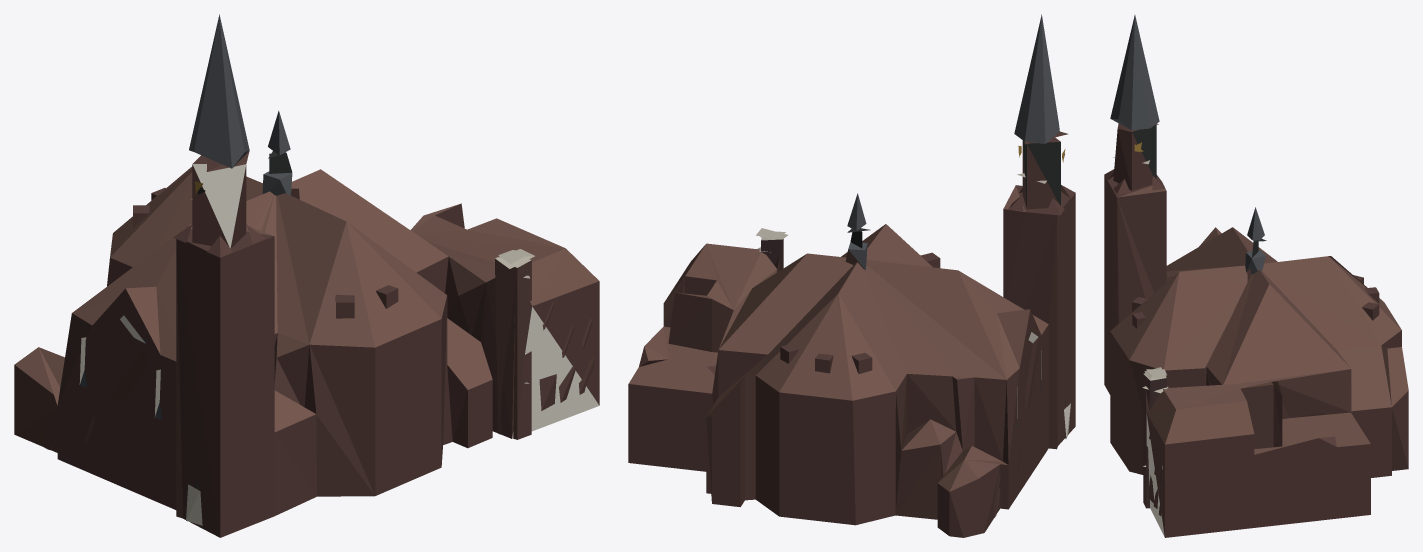
Rendered from oranjekerk-pijp.lod2.glb.
The picture shows the model from 3 angles, left to right: view 1: azimuth 30°, elevation 25°; view 2: azimuth 150°, elevation 25°; view 3: azimuth 270°, elevation 25°; orthographic projection. The views are drawn at different scales.
Parts seen in each view (by area): view 1: lod2; view 2: lod2; view 3: lod2.
Boxes of the visible parts, box(x1,y1,x2,y2) form: lod2: box(14, 14, 599, 537); lod2: box(628, 14, 1075, 537); lod2: box(1104, 15, 1408, 537).
Bounding box in the file's own units: 46.2 × 47.5 × 34.72.
